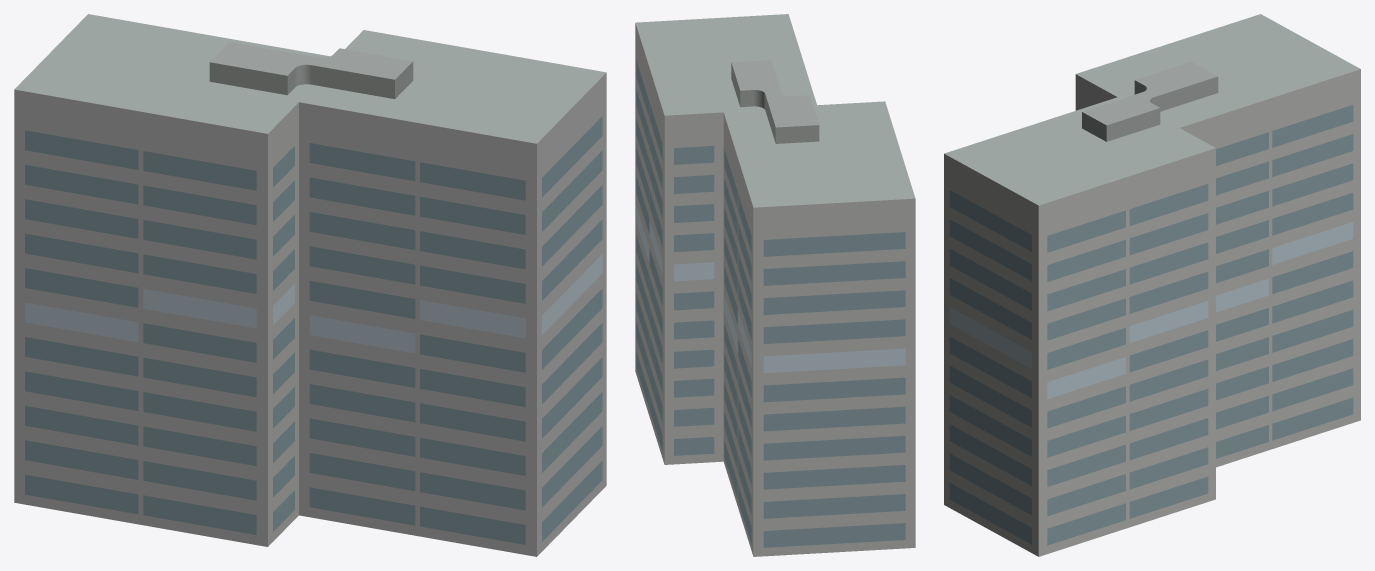
The model's file is fallback-gwanak-dream-town-101.glb.
The picture shows the model from 3 angles, left to right: view 1: azimuth 30°, elevation 25°; view 2: azimuth 150°, elevation 25°; view 3: azimuth 270°, elevation 25°; orthographic projection. The views are drawn at different scales.
Parts seen in each view (by area): view 1: fallback-gwanak-dream-town-101; view 2: fallback-gwanak-dream-town-101; view 3: fallback-gwanak-dream-town-101.
Boxes of the visible parts, left/top/right/bottom form: fallback-gwanak-dream-town-101: left=14, top=14, right=606, bottom=556; fallback-gwanak-dream-town-101: left=635, top=14, right=915, bottom=556; fallback-gwanak-dream-town-101: left=944, top=14, right=1360, bottom=556.
Bounding box in the file's own units: 36.87 × 33 × 33.9.
